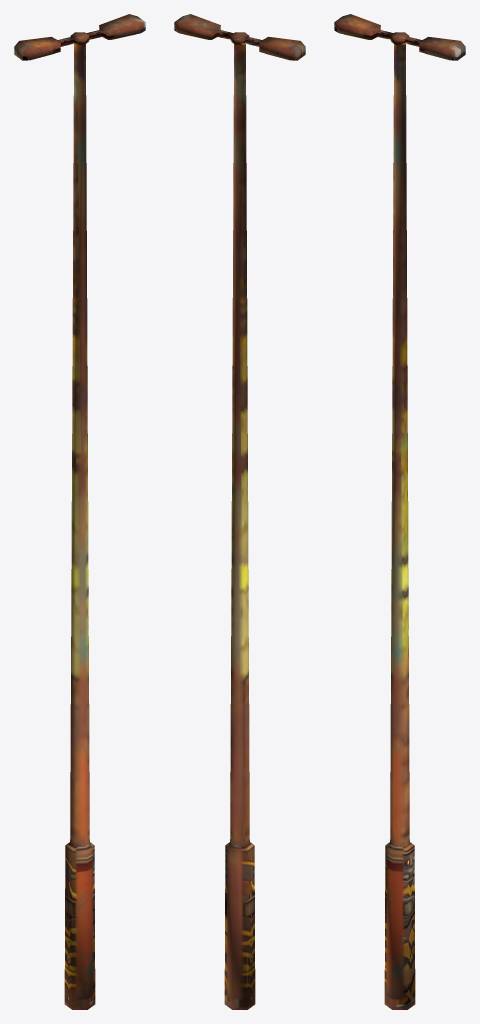
The model's file is road_light.fbx.
3 renders of one model, left to right at view 1: azimuth 30°, elevation 25°; view 2: azimuth 150°, elevation 25°; view 3: azimuth 330°, elevation 25°, orthographic.
Parts seen in each view (by area): view 1: input; view 2: input; view 3: input.
Part boxes in pixels (x1,y1,x2,y2): input: (14,14,145,1009); input: (174,14,305,1009); input: (334,14,465,1009).
Bounding box in the file's own units: 26.59 × 200 × 5.71.
Materials: 1 (1 with a texture image).
